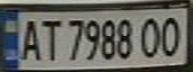7: (63, 16, 84, 61)
8: (115, 16, 139, 61), (100, 16, 118, 61)
9: (81, 16, 103, 62)
A: (15, 16, 45, 62)
O: (157, 12, 187, 57), (136, 15, 163, 60)
T: (36, 16, 63, 62)
